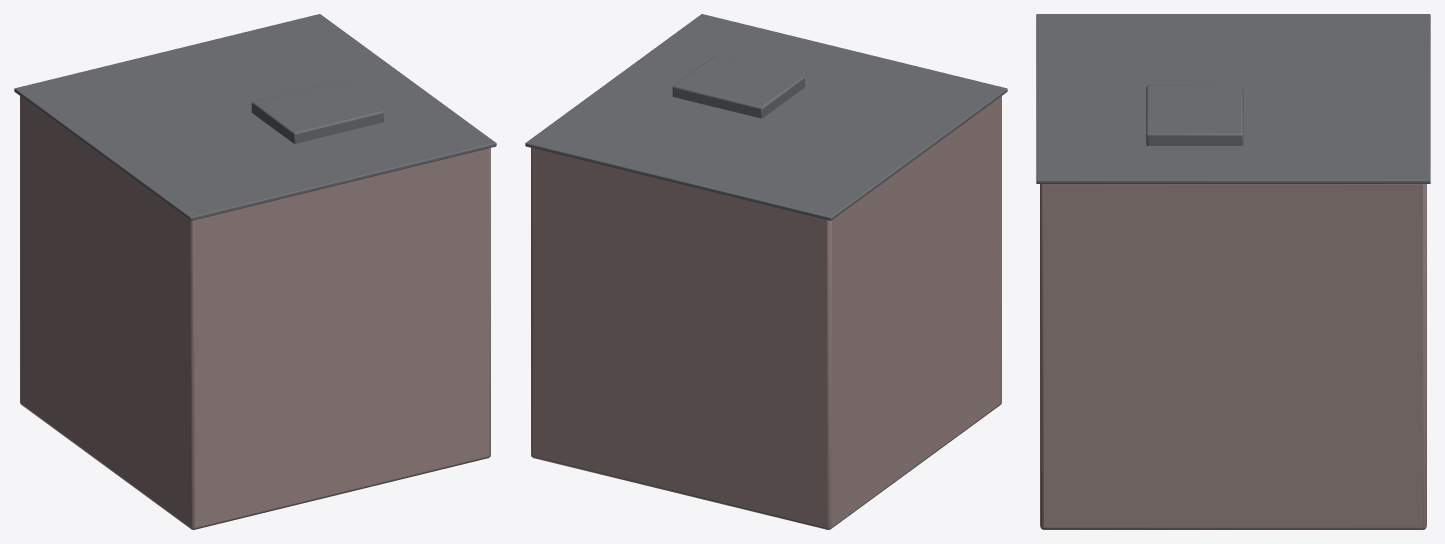
File: tower_brick.fbx
The picture shows the model from 3 angles, left to right: view 1: azimuth 30°, elevation 25°; view 2: azimuth 150°, elevation 25°; view 3: azimuth 270°, elevation 25°; orthographic projection. The views are drawn at different scales.
Visible parts, largest first — view 1: tower_brick; view 2: tower_brick; view 3: tower_brick.
Part boxes in pixels (x1,y1,x2,y2): tower_brick: [14, 14, 496, 529]; tower_brick: [525, 14, 1007, 529]; tower_brick: [1036, 14, 1430, 529].
Bounding box in the file's own units: 1.02 × 1.04 × 1.02.
